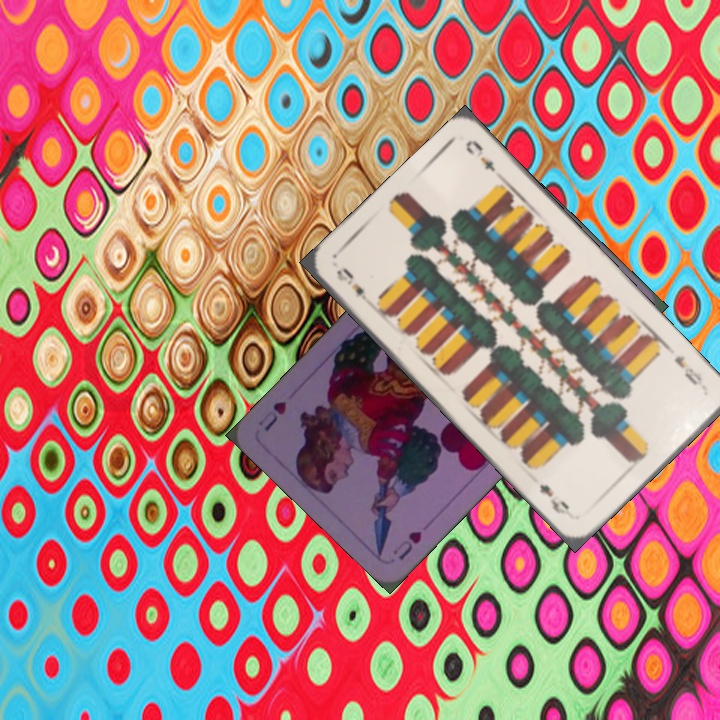E9: (332, 263, 376, 309), (670, 351, 705, 390)
HU: (389, 527, 425, 563)
